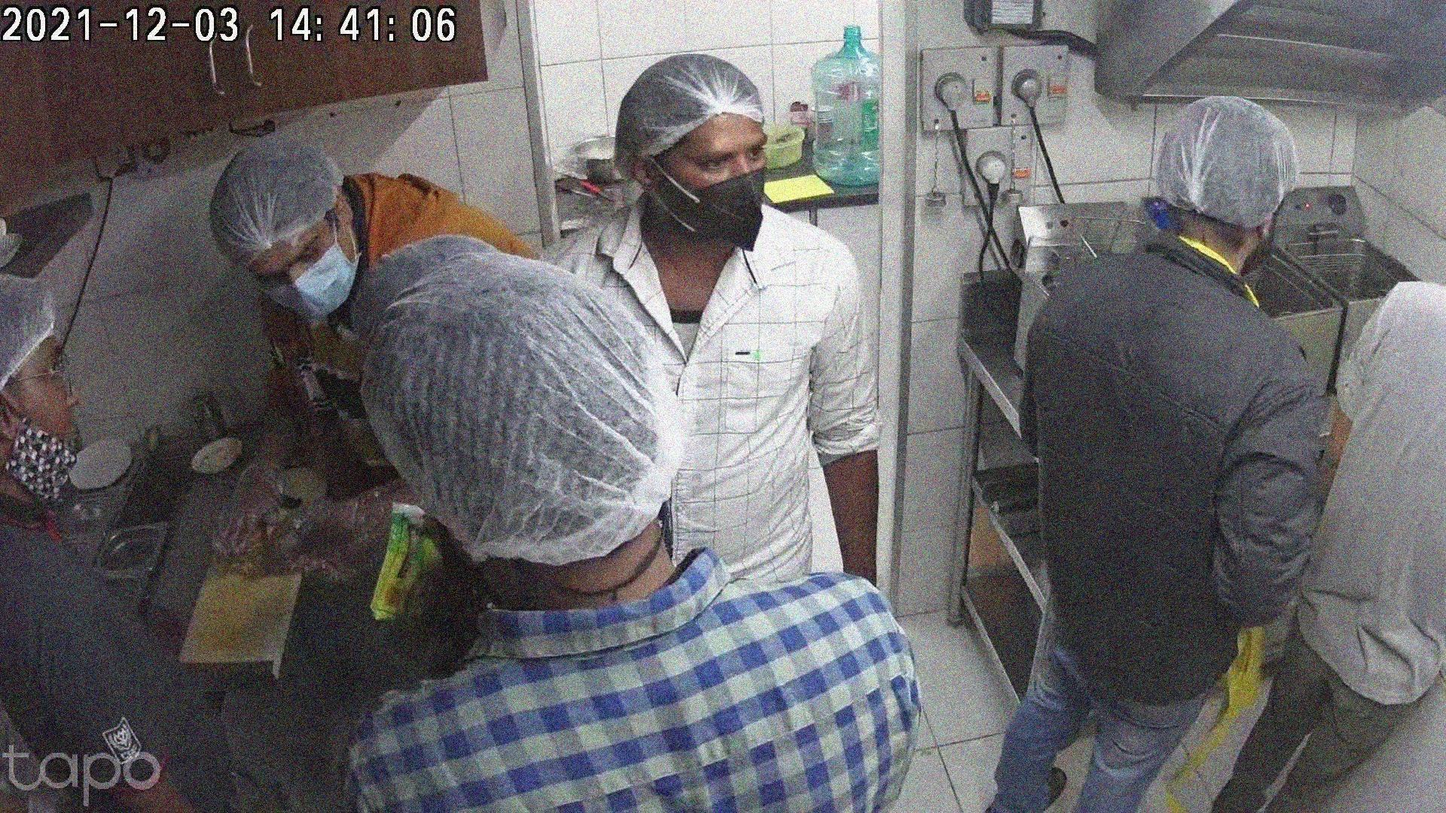apron: (277, 463, 416, 600)
gloves: (340, 254, 701, 590), (1146, 91, 1313, 234), (609, 51, 786, 185), (189, 119, 349, 257), (352, 229, 520, 326), (1, 249, 66, 418)
mask: (667, 142, 767, 239), (261, 219, 358, 311)
no_hairnet: (8, 336, 78, 437)
